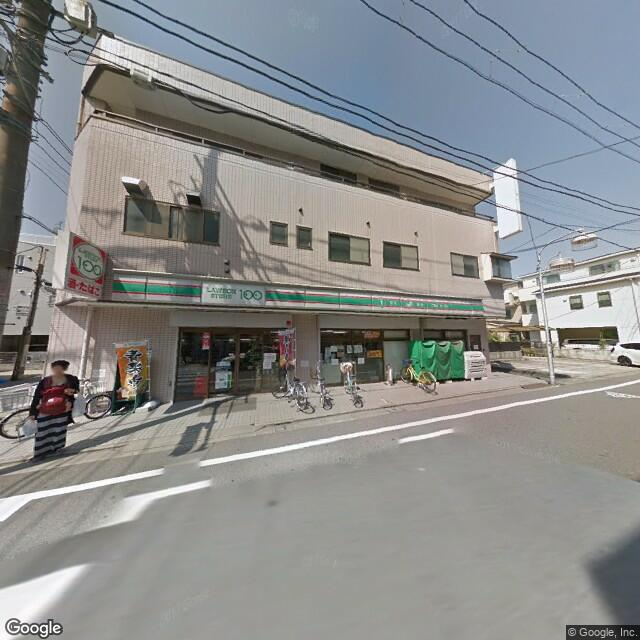lawson: (103, 269, 485, 322), (69, 235, 106, 290)
